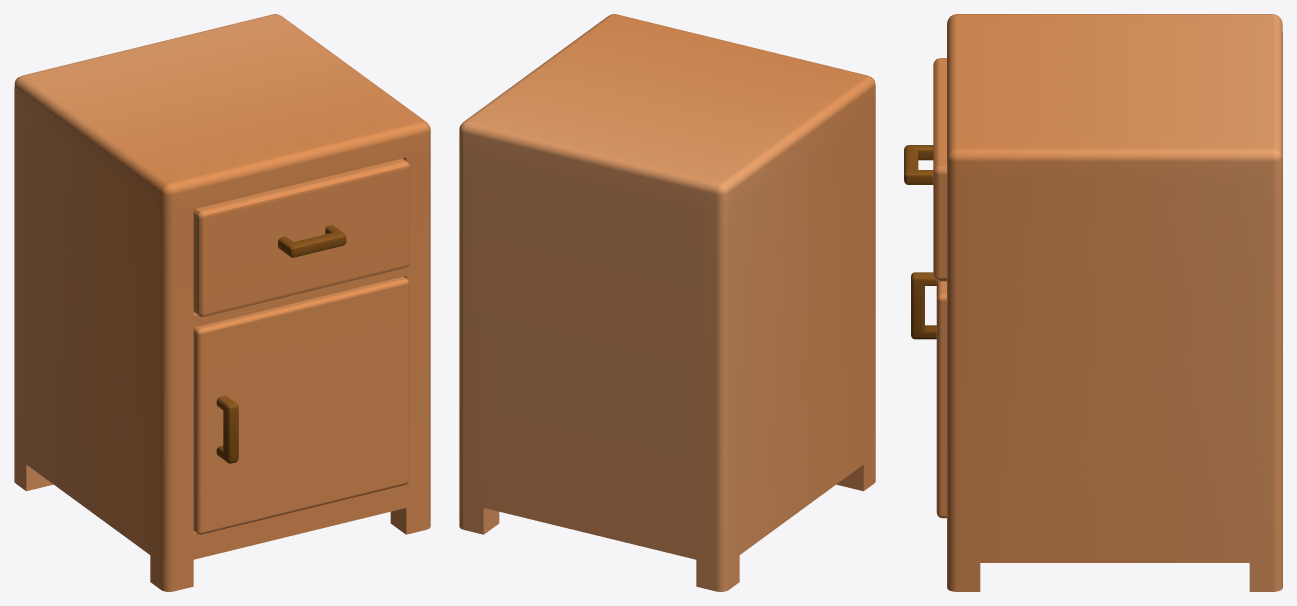
File: SM_Table_chevet.fbx
3 views of the same model, side by side, from view 1: azimuth 30°, elevation 25°; view 2: azimuth 150°, elevation 25°; view 3: azimuth 270°, elevation 25° (orthographic). The views are drawn at different scales.
Parts seen in each view (by area): view 1: Table_chevet; view 2: Table_chevet; view 3: Table_chevet.
Boxes of the visible parts, bbox=[...] form: Table_chevet: bbox=[14, 14, 430, 591]; Table_chevet: bbox=[459, 14, 875, 591]; Table_chevet: bbox=[904, 14, 1282, 591].
Size of the model in its own units: 46.08 by 66.49 by 51.95.
